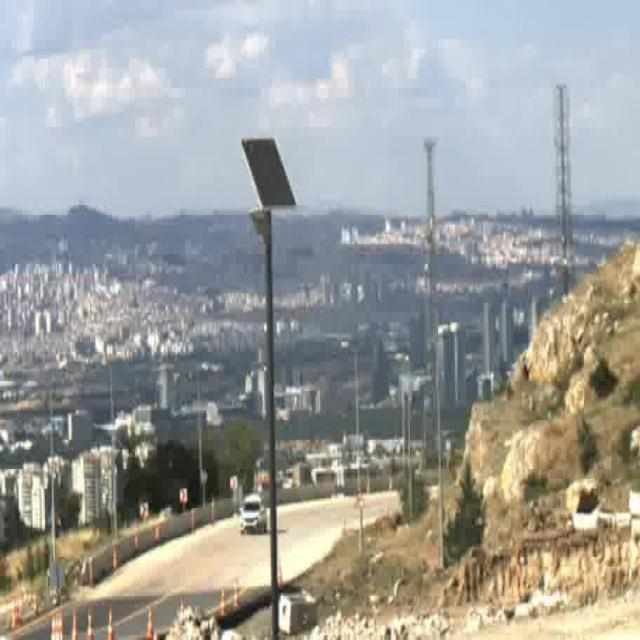Car: (239, 495, 268, 533)
